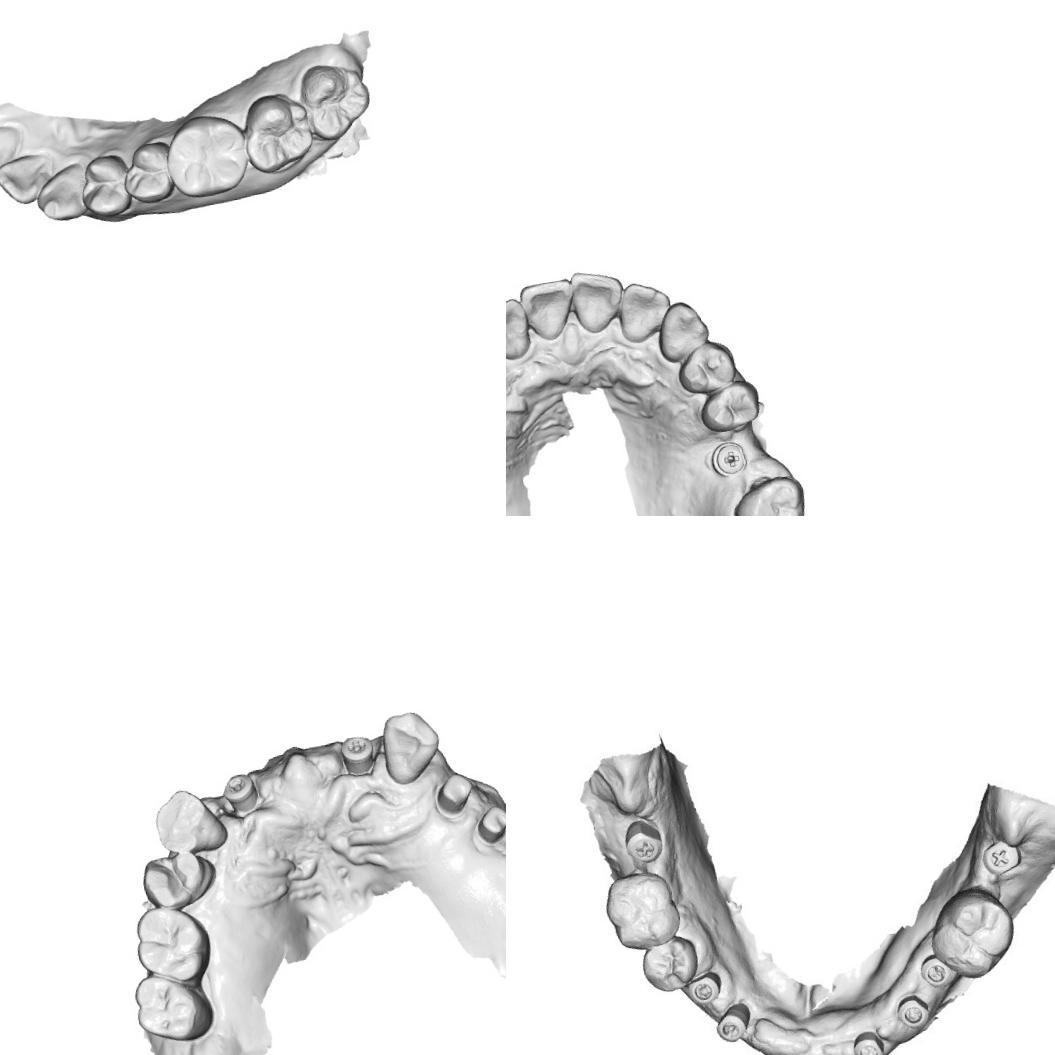abutment: (430, 766, 478, 823), (471, 801, 506, 850)
canine: (148, 780, 232, 860), (374, 706, 448, 790), (30, 160, 92, 226), (652, 298, 714, 364)
implant: (219, 769, 262, 817), (917, 953, 959, 994), (712, 1005, 751, 1043), (898, 995, 928, 1029), (851, 1030, 887, 1055), (690, 974, 720, 1004)
implant_plus: (620, 815, 667, 870), (336, 732, 380, 776), (706, 437, 750, 480), (980, 838, 1024, 880)
incisor: (567, 264, 630, 336), (613, 276, 676, 346), (517, 276, 579, 346), (0, 151, 60, 210), (506, 295, 534, 365), (0, 121, 28, 185)
molar: (927, 882, 1019, 984), (160, 108, 254, 202), (128, 899, 216, 994), (128, 966, 218, 1052), (602, 871, 684, 958), (296, 56, 376, 144), (238, 88, 316, 177), (726, 472, 811, 516)
premolar: (135, 844, 221, 916), (634, 932, 702, 998), (75, 151, 136, 222), (117, 138, 179, 207), (696, 376, 764, 436), (673, 338, 740, 398)
